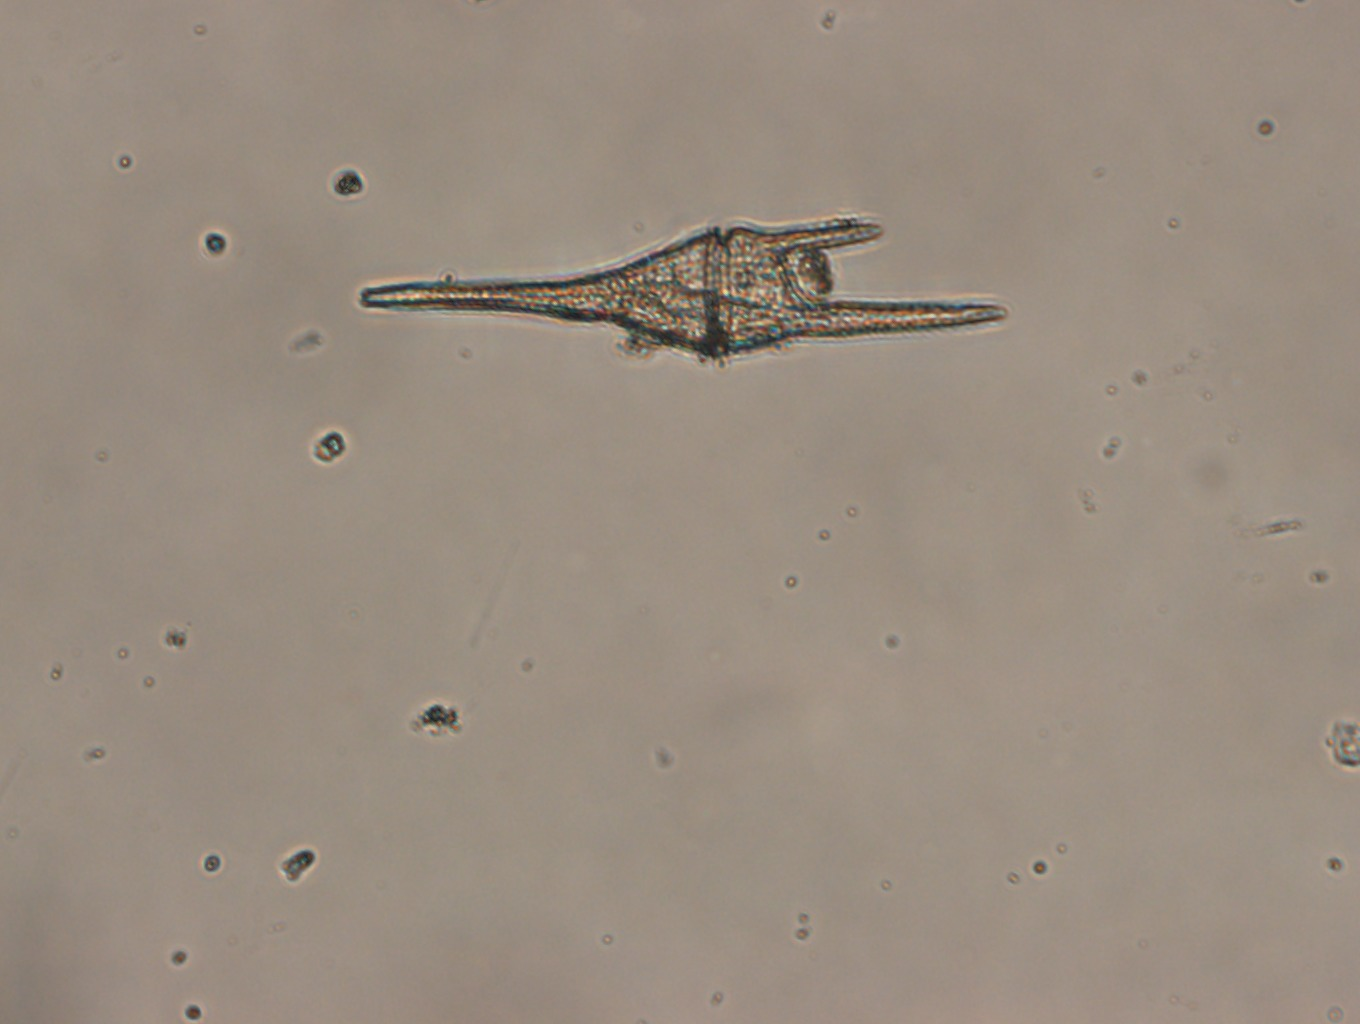ceratium furca: (358, 216, 1010, 356)
